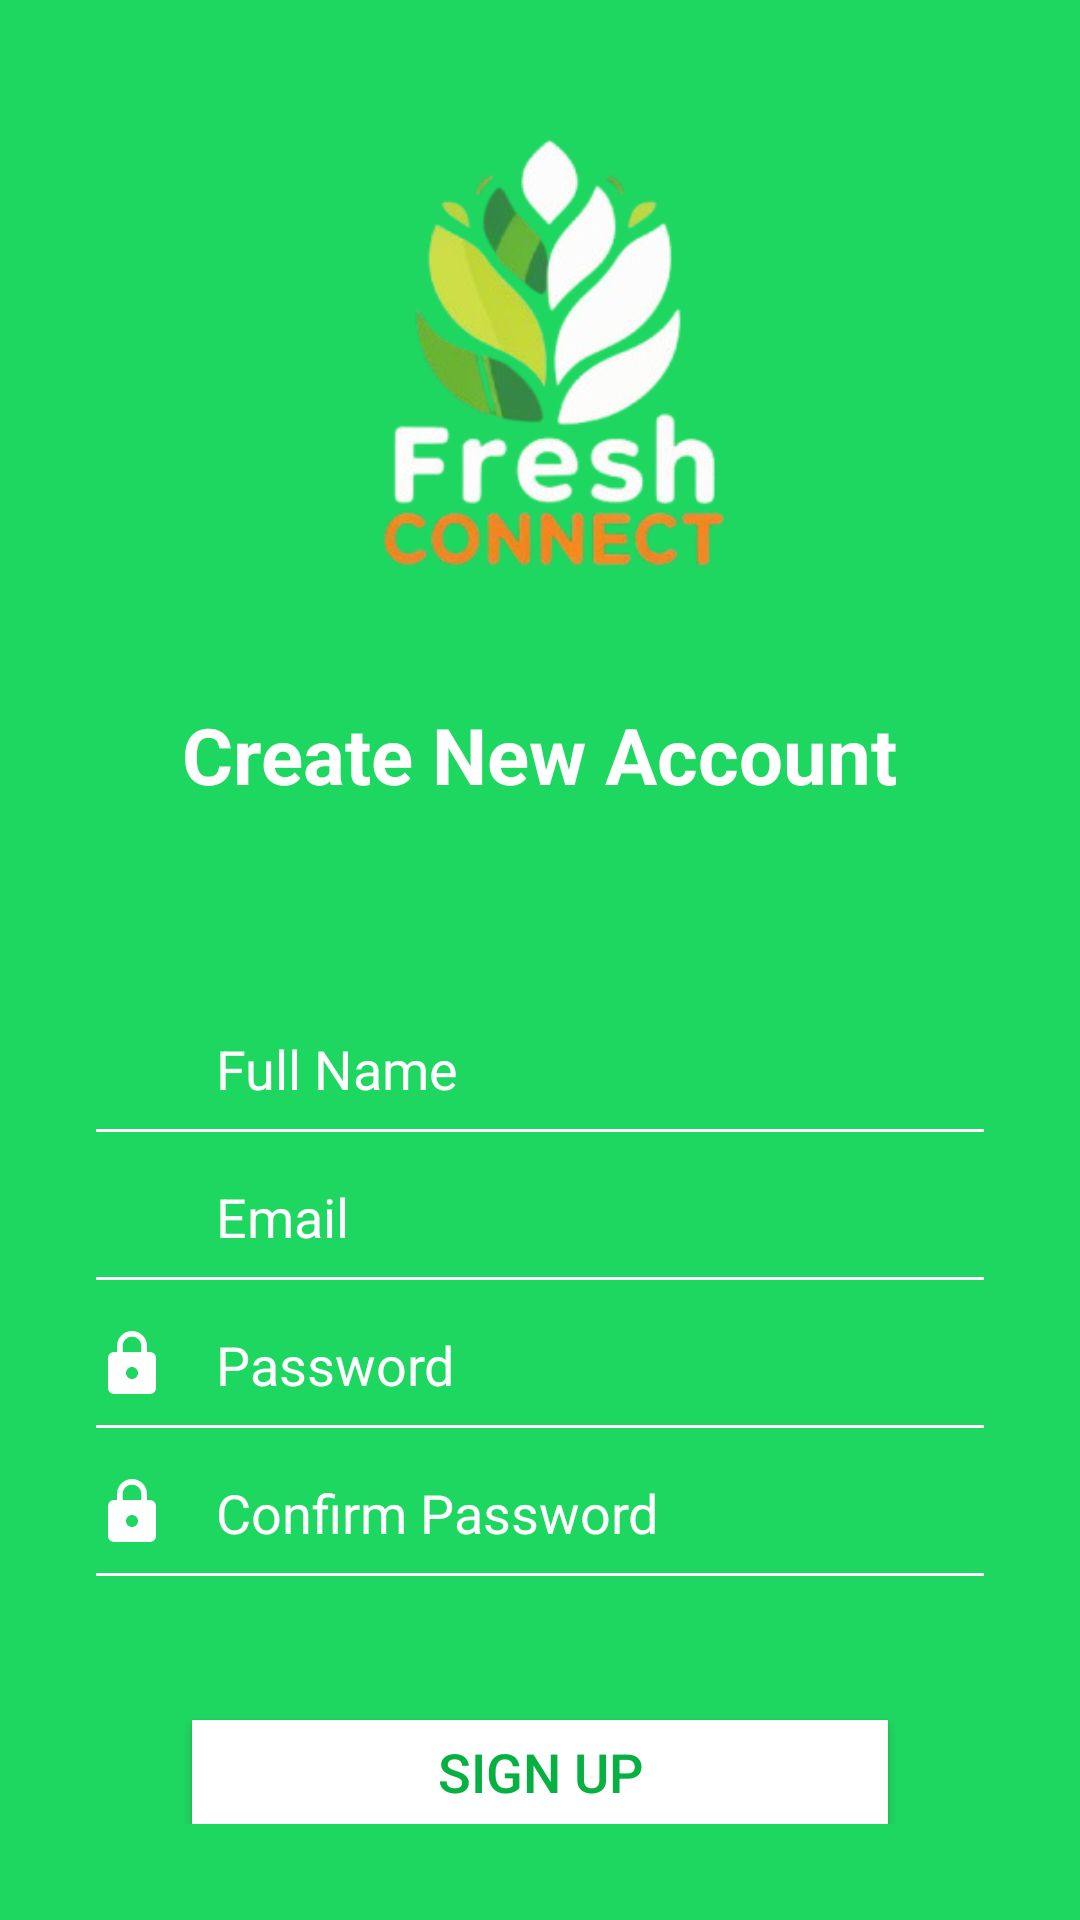

Icon bounding boxes for this 1080 × 1920 phone screenshot, format (x1, y1, x2, y2):
lock: (108, 1331, 156, 1394), (108, 1479, 156, 1542)
